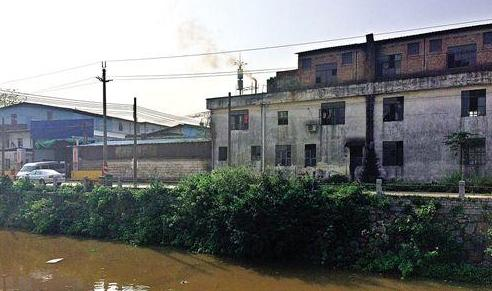dust: (220, 55, 262, 85)
